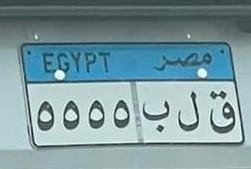5: (108, 97, 131, 133), (60, 97, 81, 134), (85, 98, 107, 131), (35, 99, 56, 133)
baa: (140, 96, 170, 135)
laam: (174, 88, 203, 136)
qaaf: (206, 89, 238, 134)
